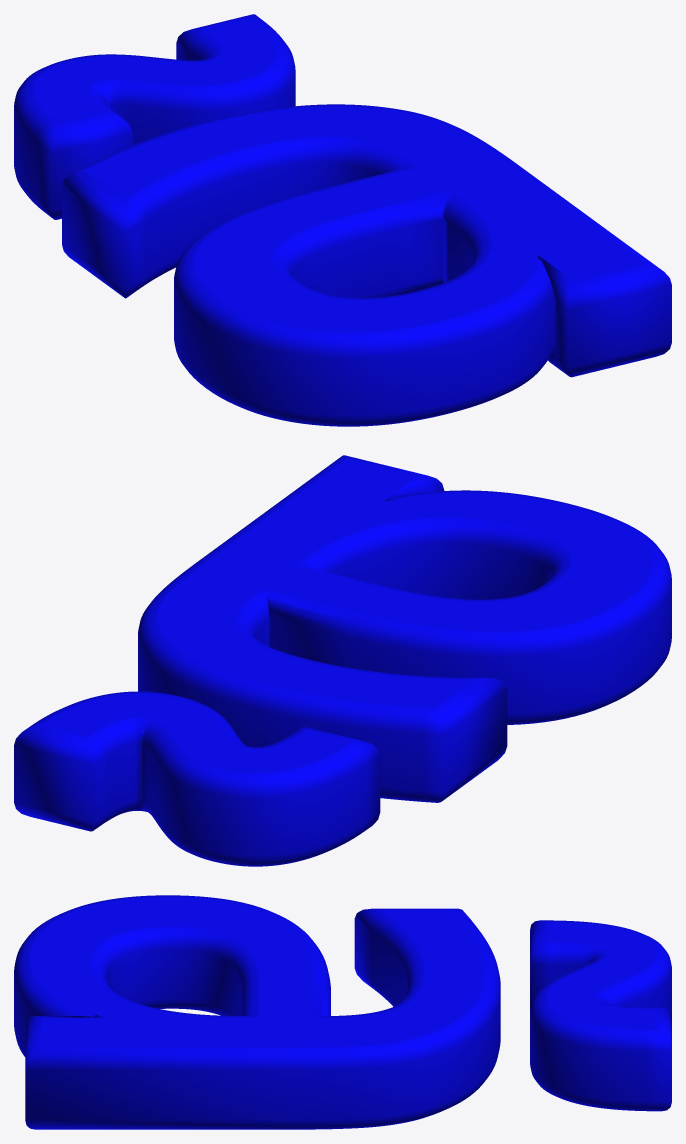
3 renders of one model, top to bottom at view 1: azimuth 30°, elevation 25°; view 2: azimuth 150°, elevation 25°; view 3: azimuth 270°, elevation 25°, orthographic. The views are drawn at different scales.
Visible parts, largest first — view 1: 227; view 2: 227; view 3: 227.
Boxes of the visible parts, x1=… form: 227: x1=14, y1=14, x2=671, y2=426; 227: x1=14, y1=455, x2=671, y2=866; 227: x1=14, y1=895, x2=671, y2=1129.
Bounding box in the file's own units: 0.7046 × 0.16 × 1.19.
